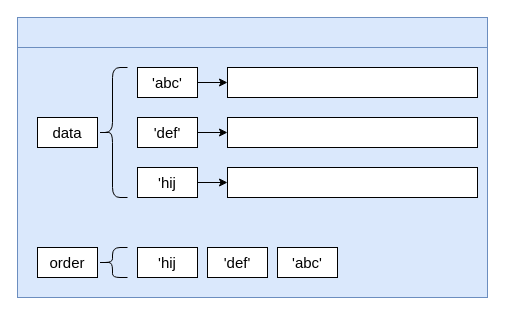
This 505x315 diagram has some shape labels left out. Here are the shapes that lost their labels. From the top down, the centre of each, then its label:
the point at 252,32: state
the point at 352,82: { id: 'abc', type: 'text', content: 'hi' }
the point at 352,132: { id: 'def', type: 'text', content: 'hi' }
the point at 352,182: { id: 'hij', type: 'text', content: 'hi' }
